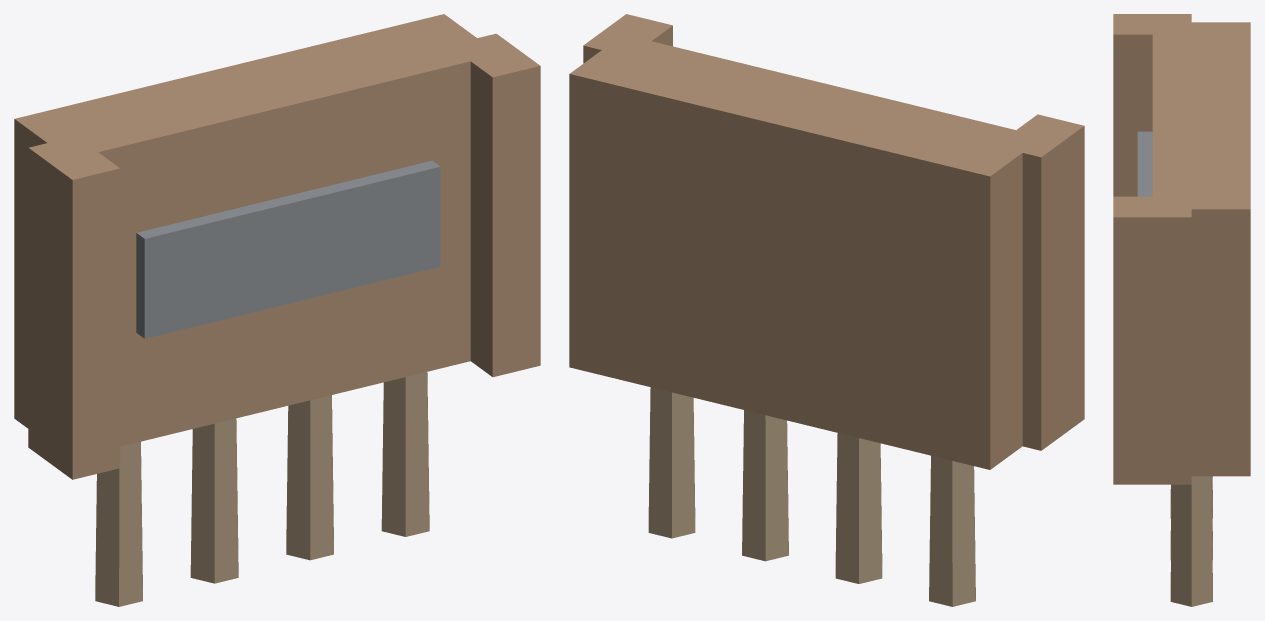
Rendered from trench-line-1917-loophole-plate-3f3d5496__24058.glb.
3 views of the same model, side by side, from view 1: azimuth 30°, elevation 25°; view 2: azimuth 150°, elevation 25°; view 3: azimuth 270°, elevation 25° (orthographic). The views are drawn at different scales.
Parts seen in each view (by area): view 1: loophole-plate; view 2: loophole-plate; view 3: loophole-plate.
Boxes of the visible parts, x1,y1,x2,y2 form: loophole-plate: [14, 14, 540, 606]; loophole-plate: [569, 14, 1084, 606]; loophole-plate: [1113, 14, 1250, 606].
Size of the model in its own units: 0.98 by 0.94 by 0.28.
